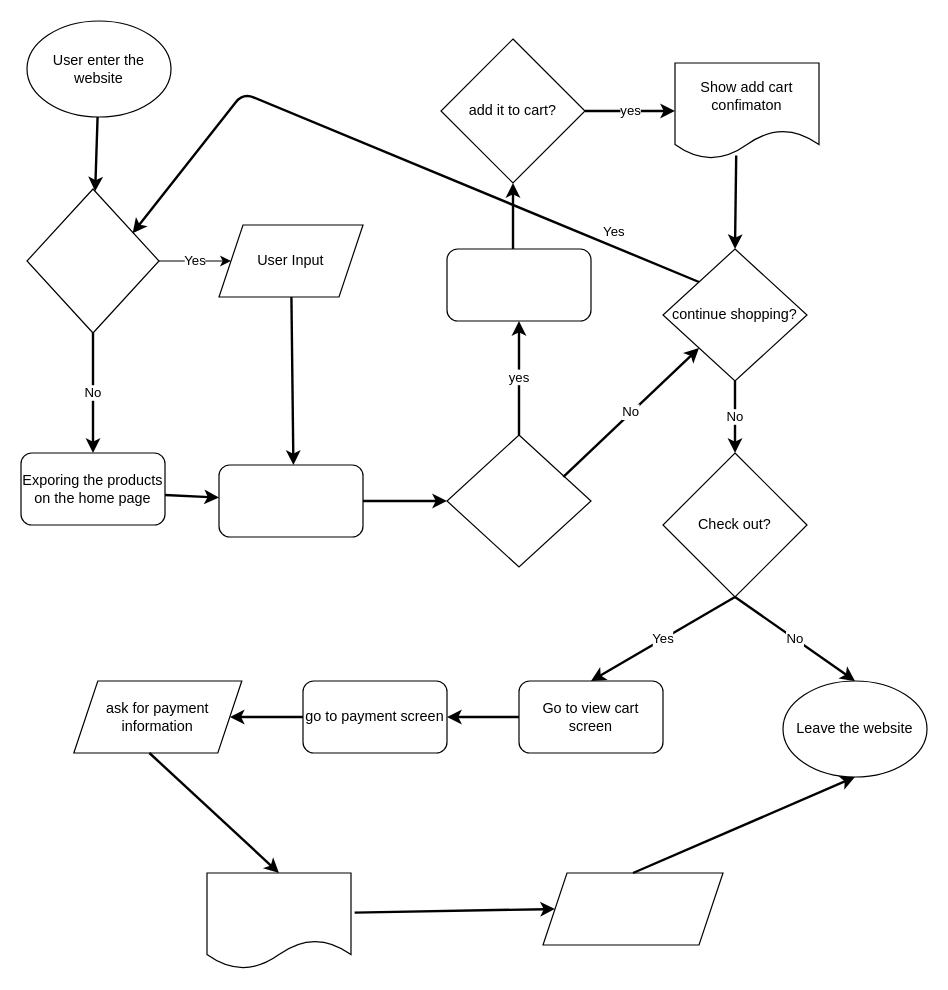
The diagram is 948 pixels wide and 990 high, and some of its shapes have lost their labels. Each missing label, with the centre of its shape:
Open the product page: point (518, 284)
Seaching for a product?: point (92, 260)
send email to user: point (632, 908)
show order information: point (278, 920)
User looking over the products: point (290, 500)
view a specific product?: point (518, 500)
